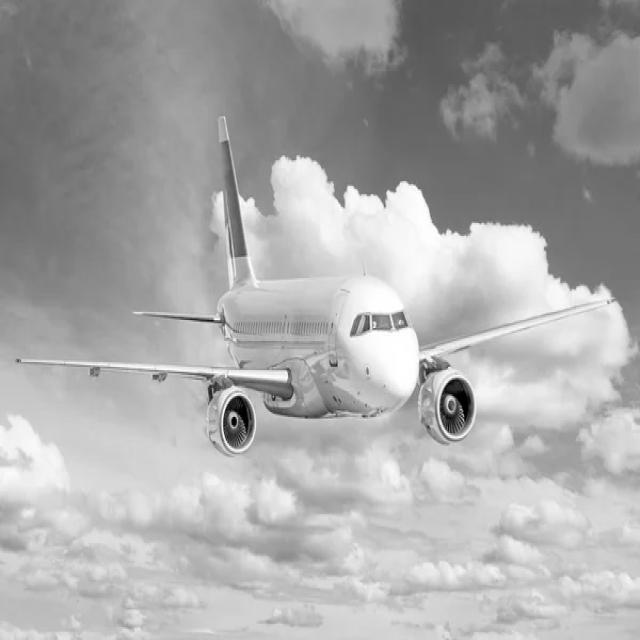Aircraft: (15, 132, 616, 462)
